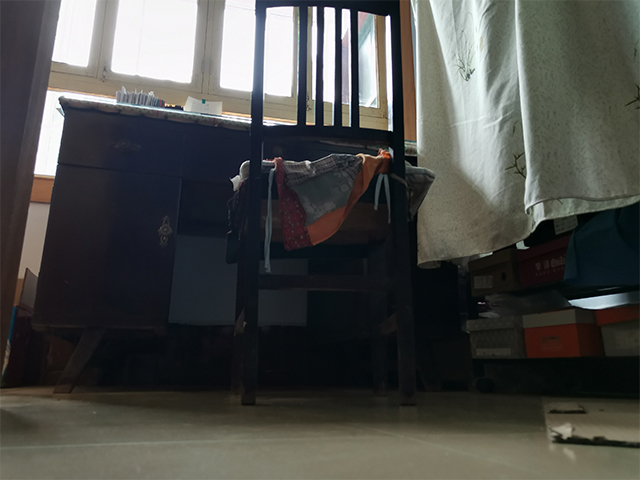cabinet: (27, 92, 429, 395)
stool: (223, 1, 418, 407)
